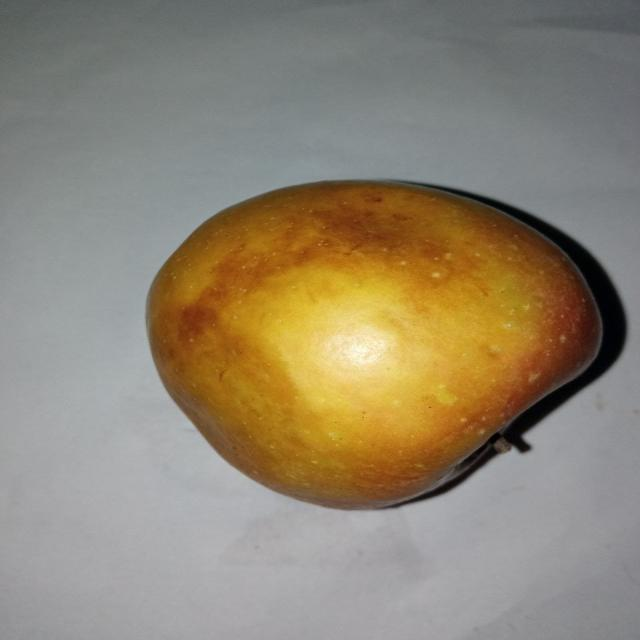fresh_apple: (142, 180, 604, 510)
